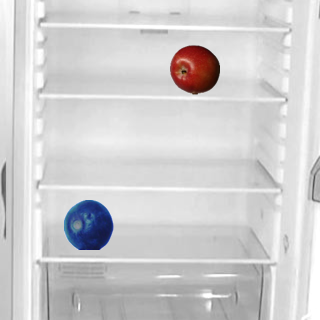Apple Braeburn: (169, 44, 219, 94)
Huckleberry: (63, 199, 113, 249)
